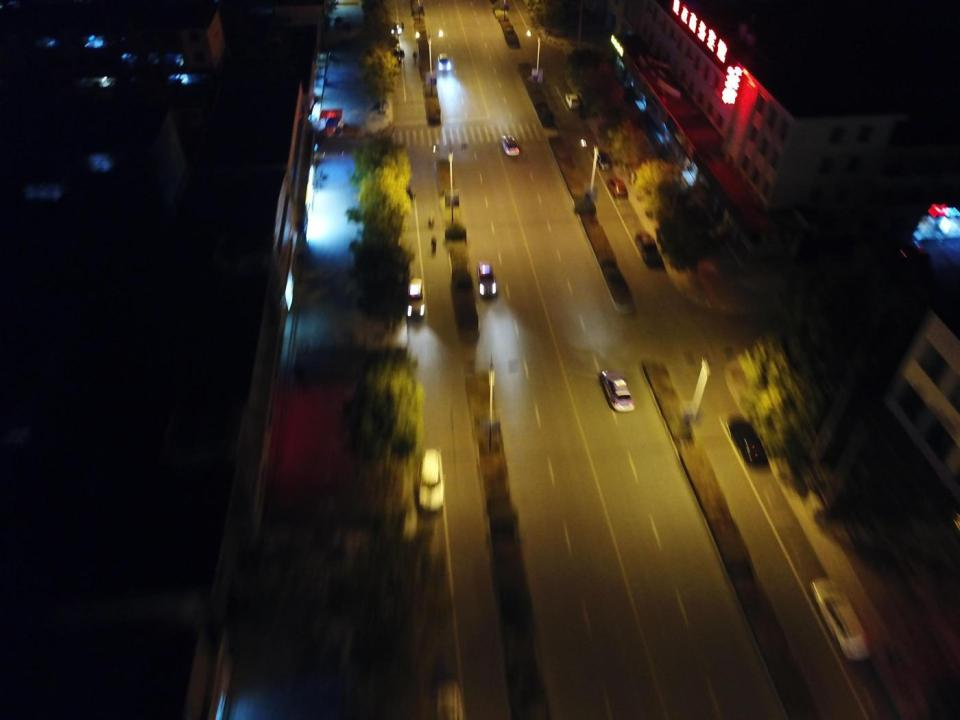car: (811, 576, 870, 661), (726, 420, 768, 470), (419, 447, 443, 510), (599, 369, 634, 412), (636, 231, 661, 268), (888, 244, 929, 265), (477, 263, 498, 298), (408, 276, 424, 316), (502, 133, 520, 156), (592, 151, 612, 171), (609, 176, 626, 197), (386, 48, 404, 64), (385, 21, 401, 34), (383, 36, 399, 47)
van: (437, 53, 450, 72), (566, 93, 580, 109), (333, 16, 342, 27)
